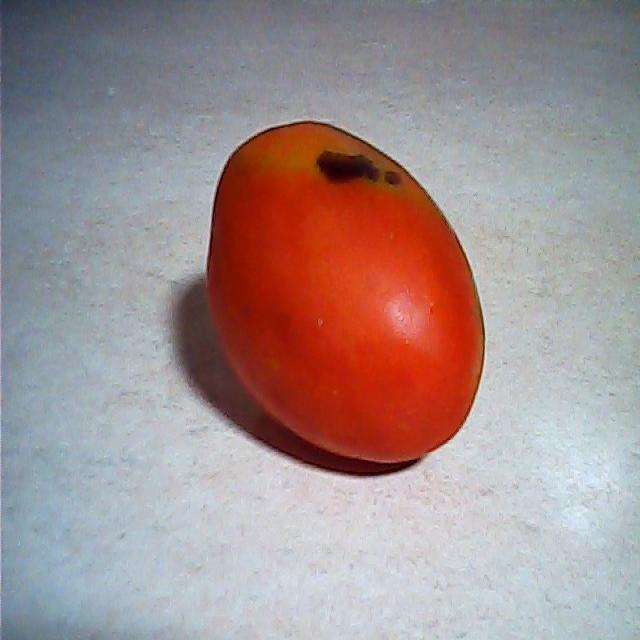defectuoso: (203, 116, 489, 473)
